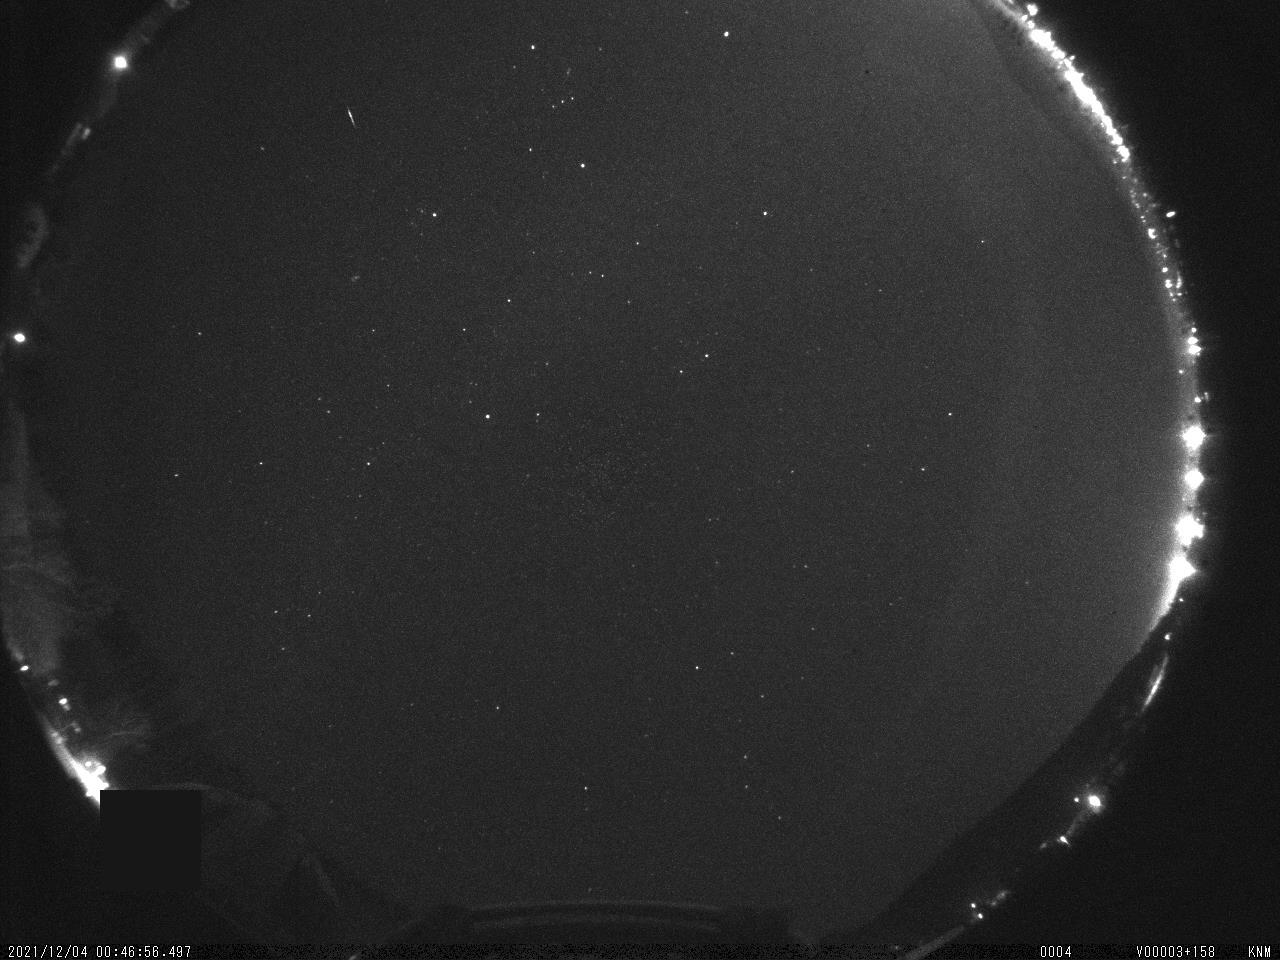meteor: (342, 101, 363, 134)
